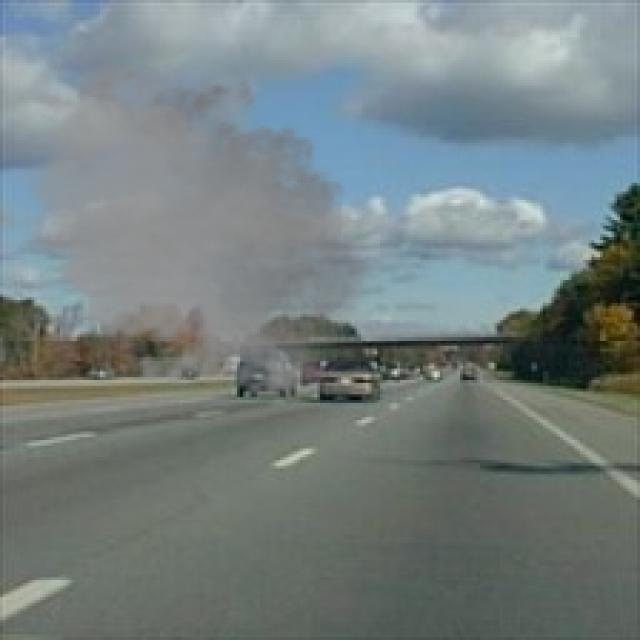smoke: (14, 57, 394, 409)
